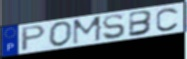B: (128, 9, 155, 38)
C: (155, 7, 180, 32)
M: (72, 15, 104, 46)
O: (48, 20, 74, 48)
P: (20, 24, 48, 53)
S: (101, 13, 127, 41)
